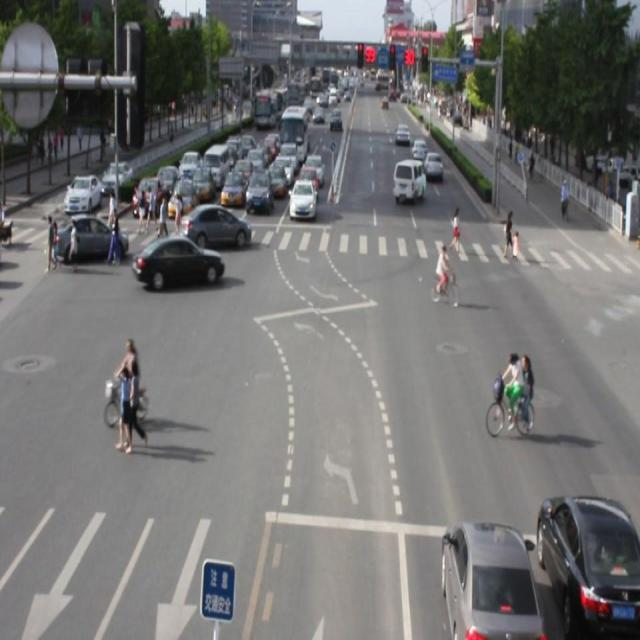BigCar: (276, 109, 319, 158)
car: (522, 477, 640, 640), (422, 502, 546, 640), (41, 208, 128, 284), (127, 232, 230, 294), (184, 196, 253, 251), (384, 147, 430, 207), (63, 170, 106, 227), (280, 170, 322, 223)
